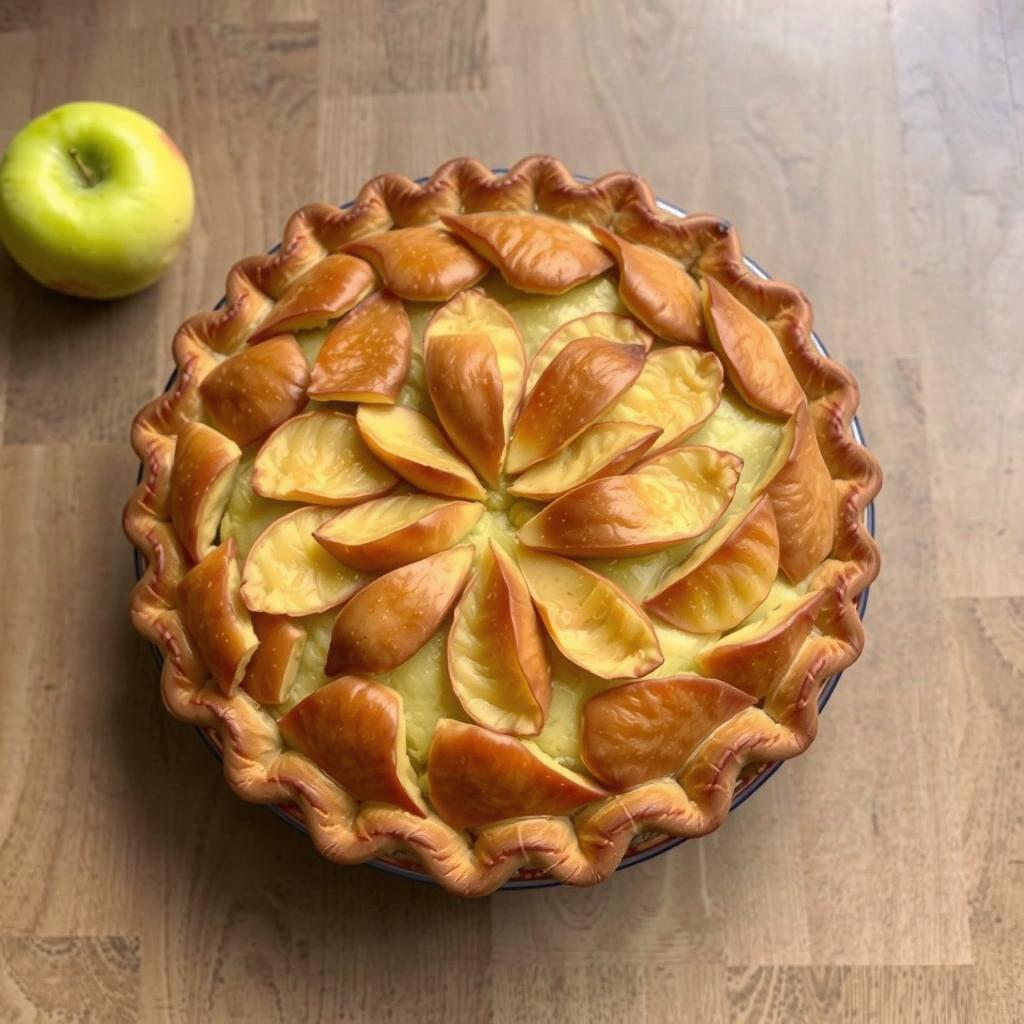pie: (117, 151, 899, 911)
